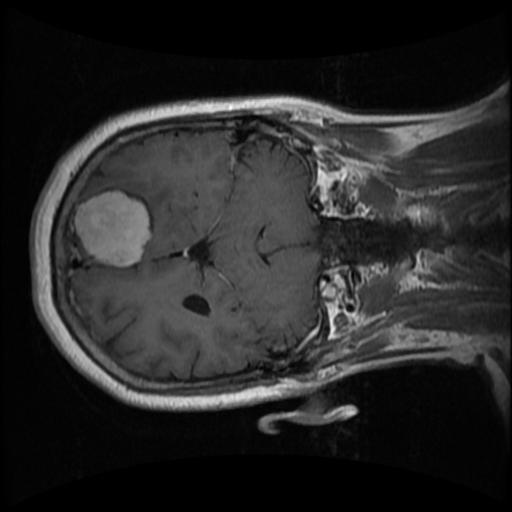meningioma: (73, 189, 152, 268)
